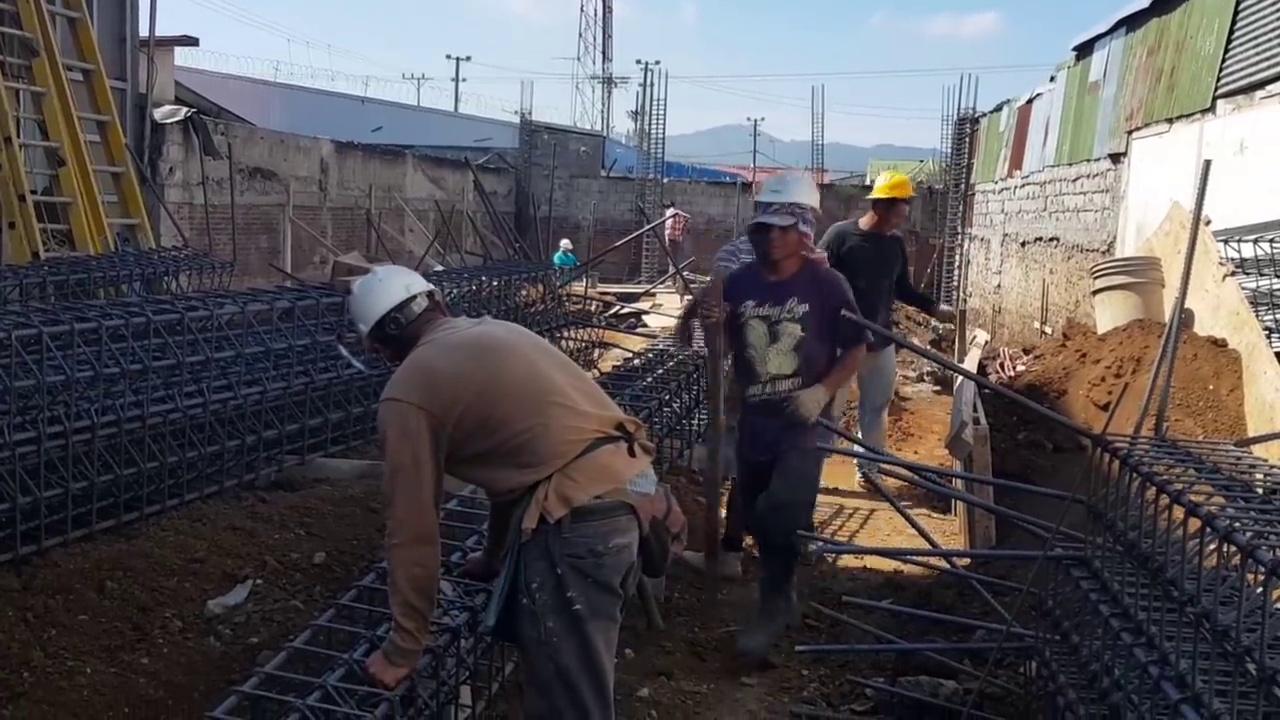helmet: (344, 265, 443, 351), (559, 239, 573, 250)
helmet-on: (342, 262, 456, 377), (745, 166, 819, 284), (864, 170, 926, 240), (555, 235, 575, 272), (559, 239, 574, 254)
person: (339, 263, 677, 720), (697, 183, 880, 645), (829, 165, 941, 471), (662, 206, 700, 296)
